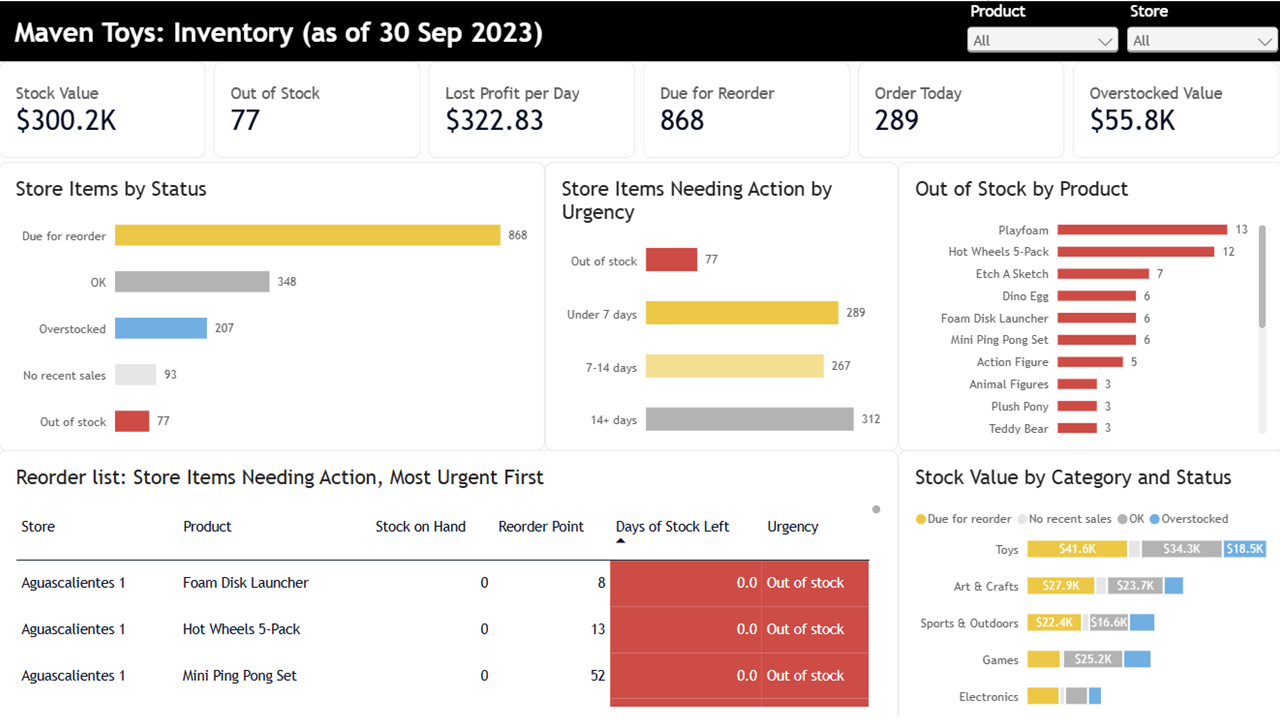

The dashboard page shown, as its layout file describes it:
{"tool":"powerbi","page":{"name":"Inventory","canvas":[1280,720],"ordinal":2},"visuals":[{"type":"shape","box":[0,0,1280,60],"z":0,"group":"g1"},{"type":"cardVisual","fields":{"Data":["_measures.Stock Value at Cost","_measures.Pairs Out of Stock","_measures.Lost Profit per Day","_measures.Pairs Reorder Now","_measures.Pairs Order Today","_measures.Overstocked Value"]},"box":[0,60,1280,96],"z":0},{"type":"textbox","box":[16,16,624,32],"z":1000,"group":"g1"},{"type":"clusteredBarChart","title":"Store Items by Status","fields":{"Category":["restock_status.Status Label"],"Y":["CountNonNull(restock_status.Store_ID)"]},"box":[0,160,544,288],"z":1000},{"type":"slicer","fields":{"Values":["products.Product_Name"]},"box":[960,0,160,64],"z":2000,"group":"g1"},{"type":"clusteredBarChart","title":"Out of Stock by Product","fields":{"Category":["products.Product_Name"],"Y":["_measures.Pairs Out of Stock"]},"box":[896,160,384,288],"z":2000},{"type":"slicer","fields":{"Values":["stores.Store_Name"]},"box":[1120,0,160,64],"z":3000,"group":"g1"},{"type":"tableEx","title":"Reorder list: Store Items Needing Action, Most Urgent First","fields":{"Values":["stores.Store_Name","products.Product_Name","Sum(restock_status.Stock_On_Hand)","Sum(restock_status.reorder_point)","Sum(restock_status.days_of_stock_left)","restock_status.Urgency without Prefixes"]},"box":[0,448,896,272],"z":3000},{"type":"barChart","title":"Stock Value by Category and Status","fields":{"Category":["products.Product_Category"],"Series":["restock_status.Status Label"],"Y":["_measures.Stock Value at Cost"]},"box":[896,448,384,272],"z":4000},{"type":"clusteredBarChart","title":"Store Items Needing Action by Urgency","fields":{"Category":["restock_status.Urgency without Prefixes"],"Y":["_measures.Pairs Out of Stock & Reorder Now"]},"box":[544,160,352,288],"z":5000},{"type":"group","id":"g1","title":"Group 1","box":[0,0,1280,64],"z":6000}]}

Visuals, with their boxes in screenshot pixels (x1, y1, x2, y2), scaled from the page's 1280x720 canvas onto the 1280x720 screenshot:
shape: left=0, top=0, right=1279, bottom=60
cardVisual - _measures.Stock Value at Cost x _measures.Pairs Out of Stock: left=0, top=60, right=1279, bottom=156
textbox: left=16, top=16, right=640, bottom=48
"Store Items by Status" clusteredBarChart: left=0, top=160, right=544, bottom=448
slicer - products.Product_Name: left=960, top=0, right=1120, bottom=64
"Out of Stock by Product" clusteredBarChart: left=896, top=160, right=1279, bottom=448
slicer - stores.Store_Name: left=1120, top=0, right=1279, bottom=64
"Reorder list: Store Items Needing Action, Most Urgent First" tableEx: left=0, top=448, right=896, bottom=719
"Stock Value by Category and Status" barChart: left=896, top=448, right=1279, bottom=719
"Store Items Needing Action by Urgency" clusteredBarChart: left=544, top=160, right=896, bottom=448
"Group 1" group: left=0, top=0, right=1279, bottom=64
